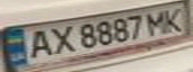7: (124, 12, 148, 39)
8: (75, 20, 100, 50), (93, 17, 115, 47), (112, 15, 133, 43)
A: (21, 27, 57, 60)
K: (160, 3, 190, 34)
M: (142, 8, 172, 36)
X: (45, 22, 78, 55)
